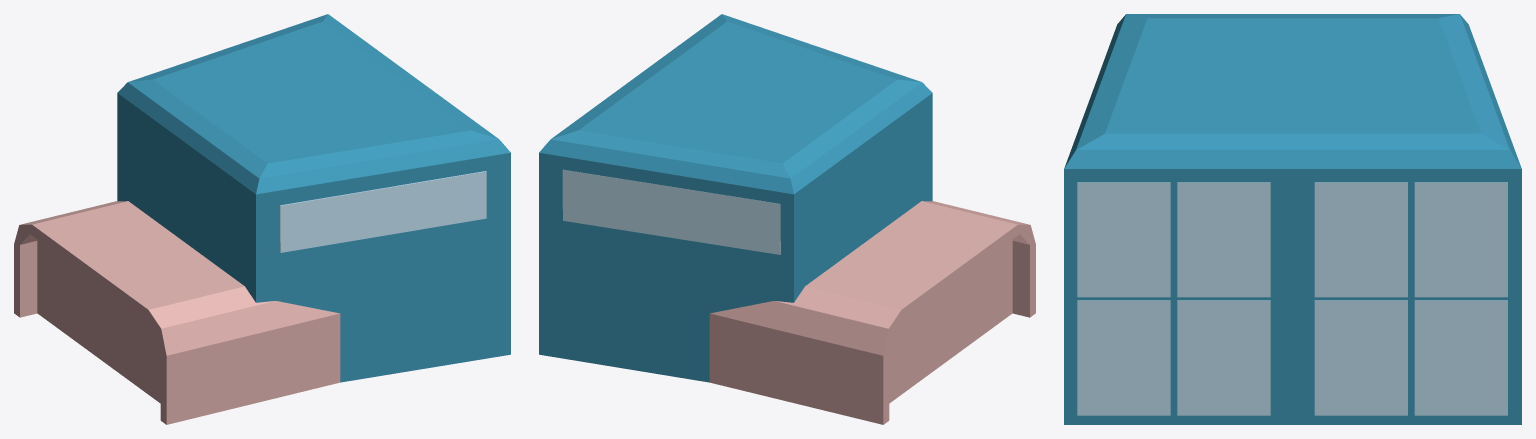
File: Consumer.fbx
3 renders of one model, left to right at view 1: azimuth 30°, elevation 25°; view 2: azimuth 150°, elevation 25°; view 3: azimuth 270°, elevation 25°, orthographic. The views are drawn at different scales.
Visible parts, largest first — view 1: Vend Storefront, Cube.003, Glass South Side Window, Cube.002; view 2: Vend Storefront, Cube.003, Glass North Side Window, Cube.002; view 3: Vend Storefront, Cube.001, Cube.006, Cube.007, Cube.008, Cube.009, Cube.010, Cube.011, Cube.012.
Part boxes in pixels (x1,y1,x2,y2): Vend Storefront: (117, 14, 510, 382); Cube.003: (14, 201, 340, 424); Glass South Side Window: (280, 171, 486, 252); Cube.002: (37, 240, 160, 403); Vend Storefront: (539, 14, 932, 382); Cube.003: (709, 201, 1035, 424); Glass North Side Window: (562, 169, 780, 254); Cube.002: (889, 240, 1012, 403); Vend Storefront: (1064, 14, 1521, 424); Cube.001: (1077, 300, 1170, 415); Cube.006: (1177, 300, 1270, 415); Cube.007: (1077, 182, 1170, 297); Cube.008: (1177, 182, 1270, 297); Cube.009: (1314, 300, 1407, 415); Cube.010: (1414, 300, 1507, 415); Cube.011: (1314, 182, 1407, 297); Cube.012: (1414, 182, 1507, 297).
Size of the model in its own units: 95.42 by 60 by 90.
